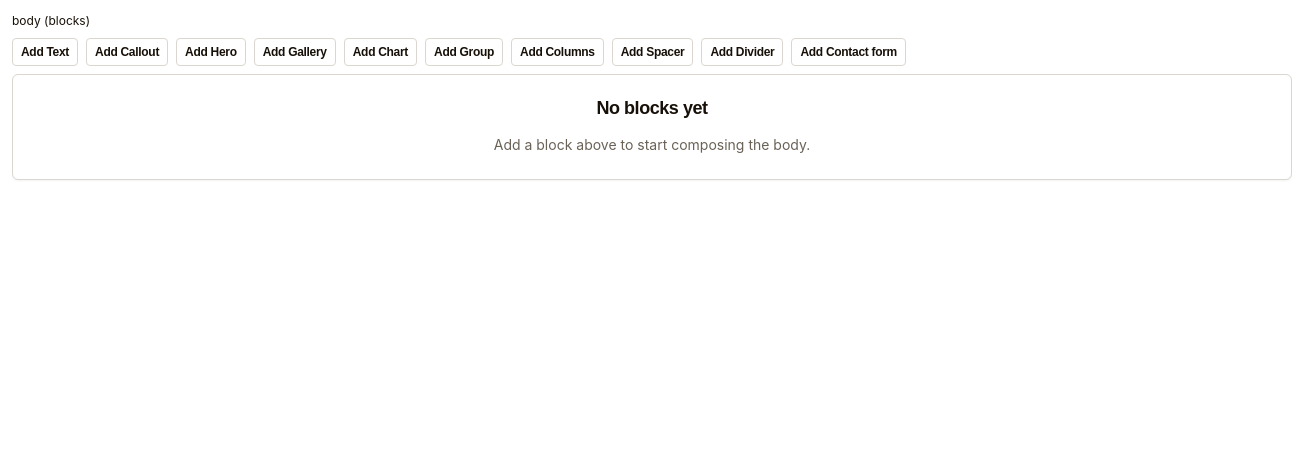
Scenario: BlocksFieldEditor › adds a text block and opens its inspector
The width and height of the screenshot is (1304, 466).
Step 1. Click the button "Add Text" → click(45, 52), box [12,38,78,66]
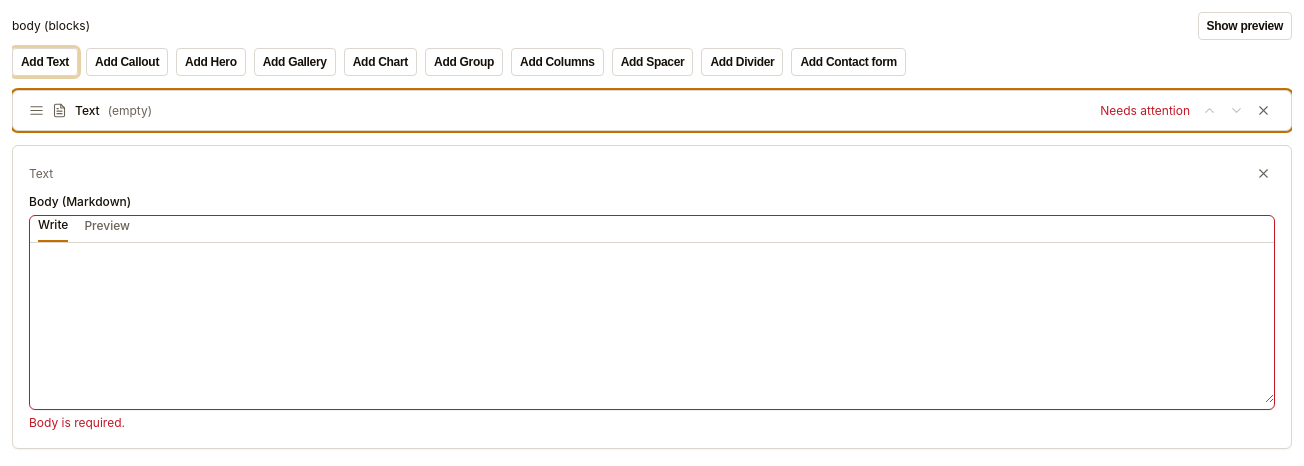
Now the heading "No blocks yet" is gone
Now the text "Body (Markdown)" is shown, box [29,194,131,209]
